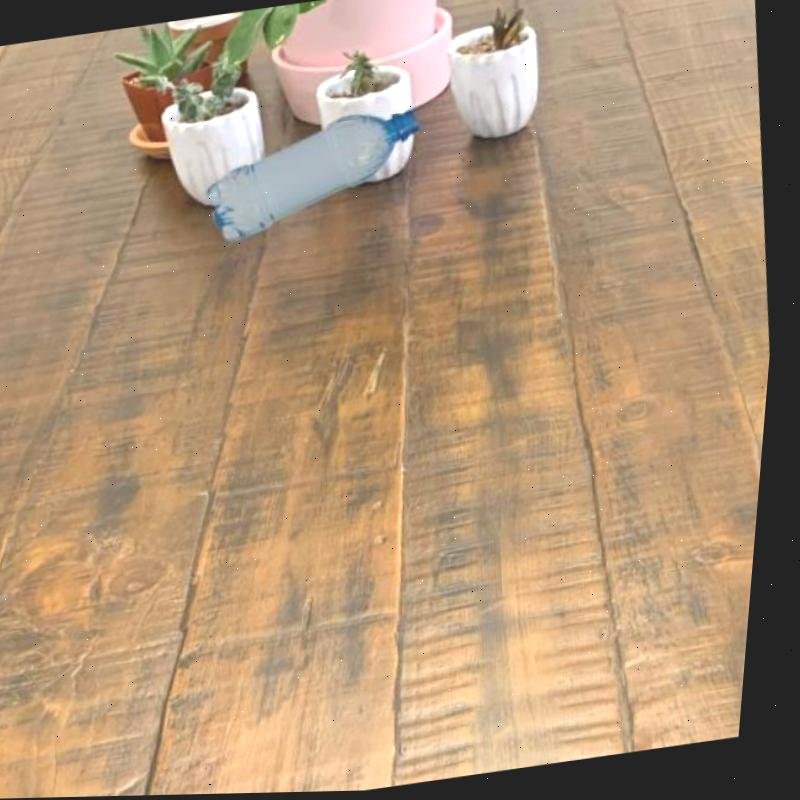botella: (196, 106, 436, 247)
